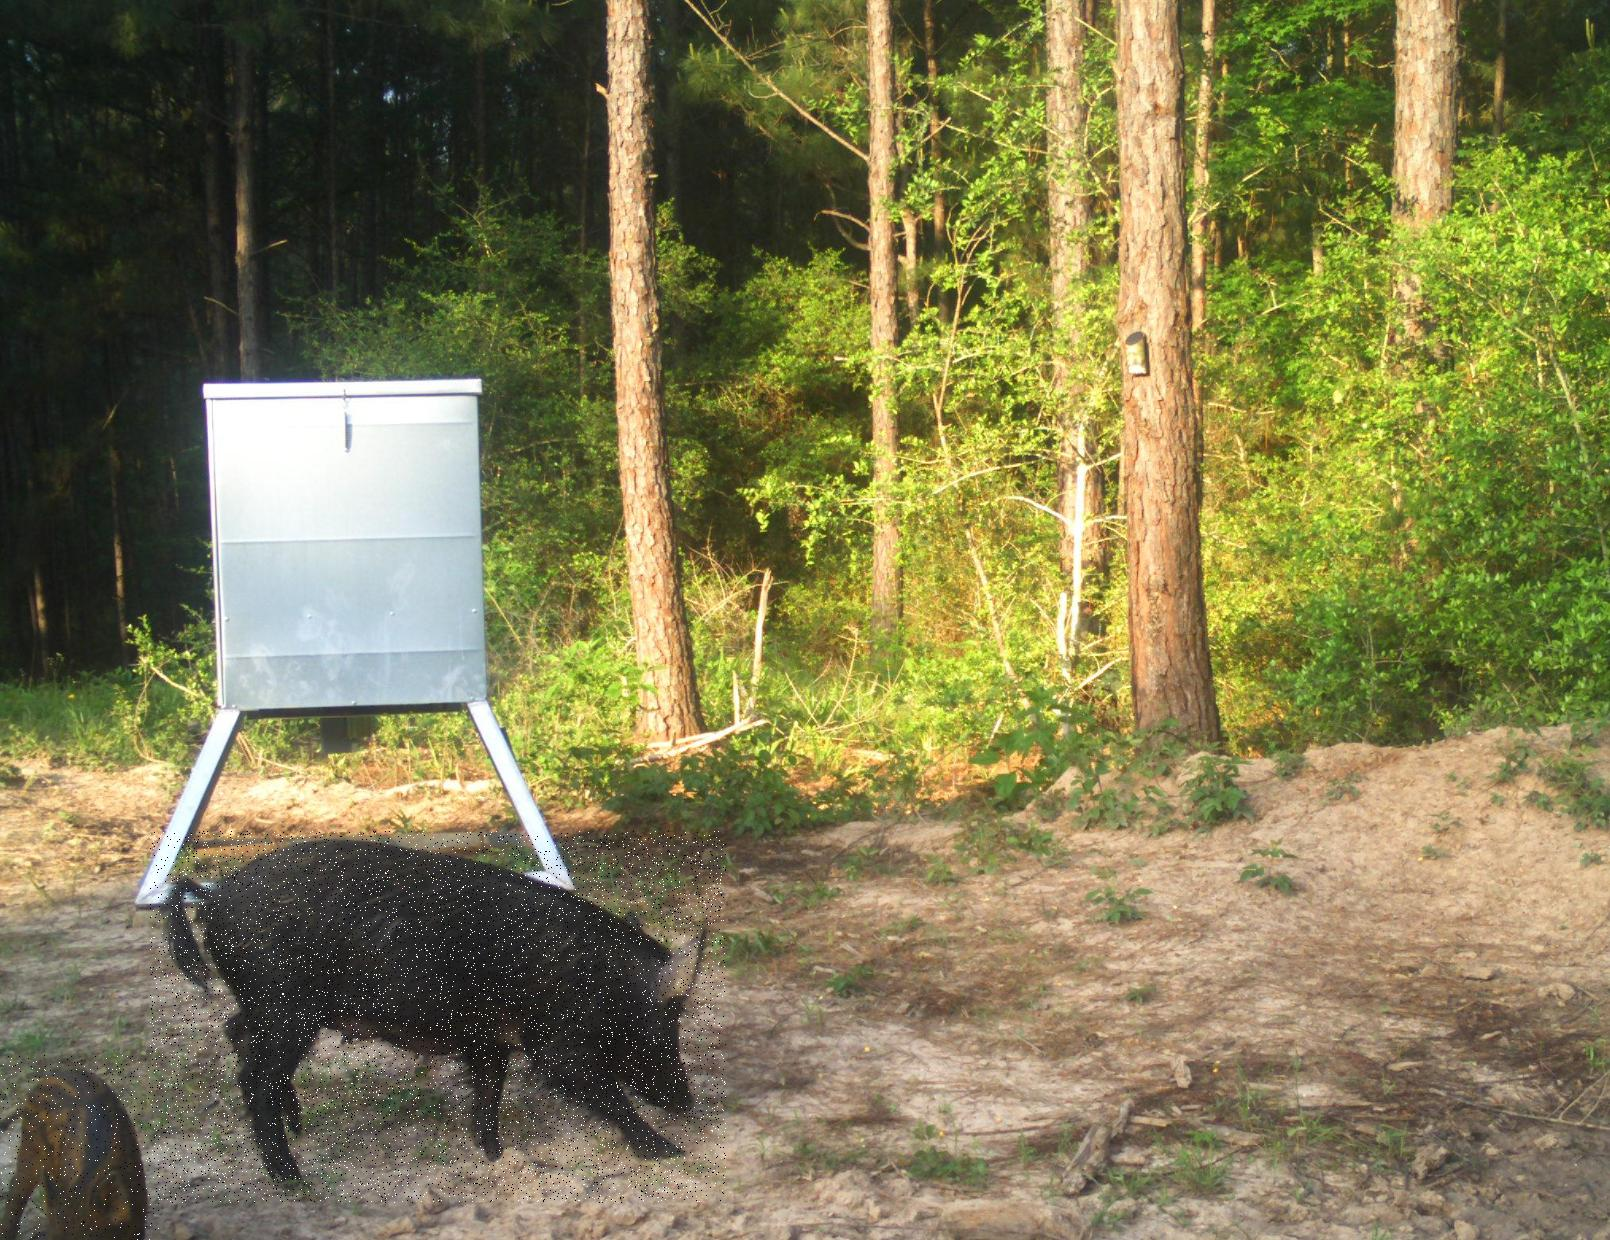Hog: (150, 831, 727, 1204), (0, 1054, 162, 1240)
